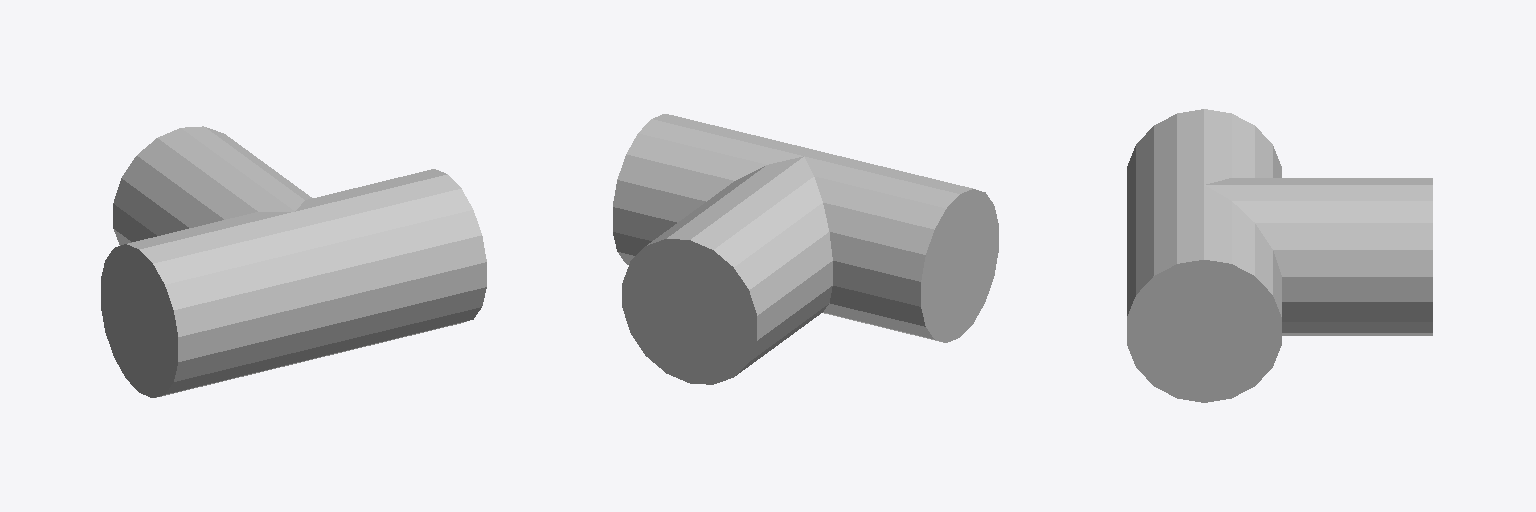
Rendered from tee.obj.
The picture shows the model from 3 angles: view 1: azimuth 30°, elevation 25°; view 2: azimuth 150°, elevation 25°; view 3: azimuth 270°, elevation 25°; orthographic projection.
Parts seen in each view (by area): view 1: __.17, __; view 2: __.17, __; view 3: __.17, __.
Boxes of the visible parts, box(x1,y1,x2,y2) form: __.17: box(101, 169, 486, 397); __: box(113, 126, 311, 245); __.17: box(613, 114, 998, 342); __: box(622, 156, 832, 384); __.17: box(1127, 109, 1281, 402); __: box(1205, 178, 1432, 335).
Size of the model in its own units: 176 by 78.28 by 152.